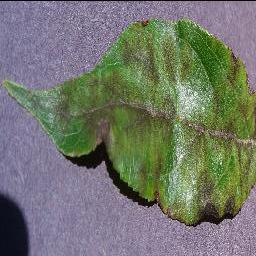apple healthy: (1, 16, 255, 227)
